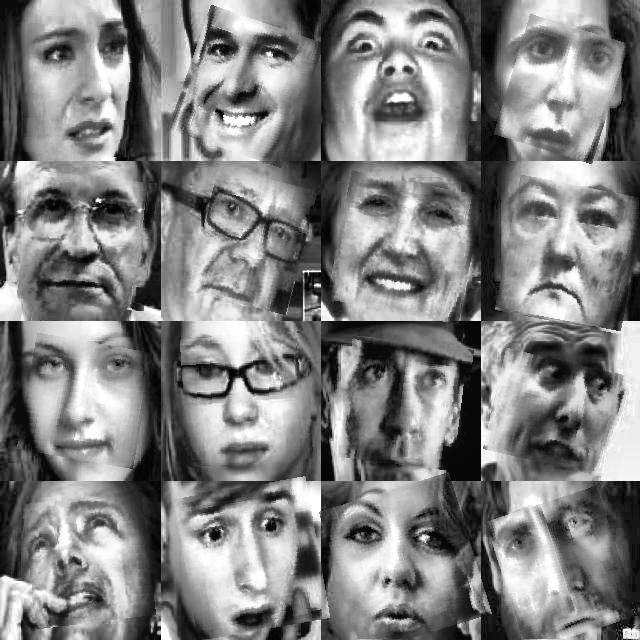angry: (338, 8, 468, 144), (488, 355, 636, 473)
fear: (180, 482, 324, 636)
happy: (332, 176, 478, 319), (177, 13, 315, 161), (20, 173, 154, 308), (21, 337, 149, 465)
neutral: (328, 480, 483, 640), (494, 493, 629, 640), (501, 20, 620, 158), (195, 172, 311, 310)
sad: (501, 180, 640, 329), (182, 333, 312, 465), (26, 494, 152, 626), (342, 339, 470, 468), (23, 25, 145, 156)
